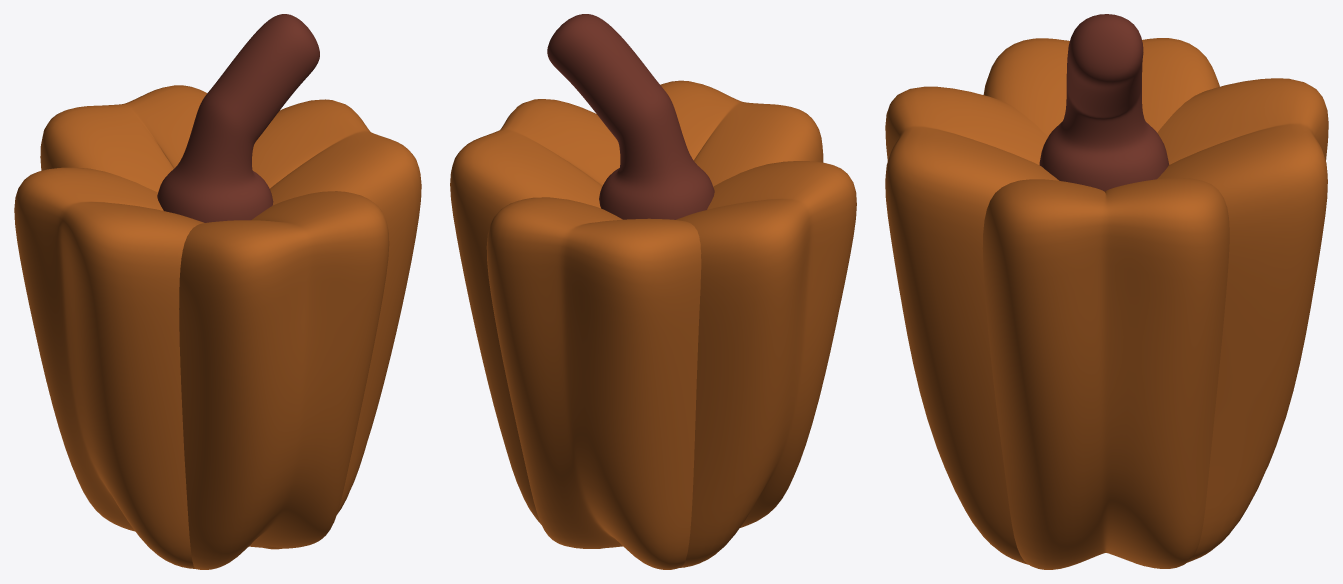
The model's file is Orange_Pepper.fbx.
3 views of the same model, side by side, from view 1: azimuth 30°, elevation 25°; view 2: azimuth 150°, elevation 25°; view 3: azimuth 270°, elevation 25° (orthographic). The views are drawn at different scales.
Visible parts, largest first — view 1: Orange_Pepper; view 2: Orange_Pepper; view 3: Orange_Pepper.
Part boxes in pixels (x1,y1,x2,y2): Orange_Pepper: (14, 14, 421, 569); Orange_Pepper: (450, 14, 856, 569); Orange_Pepper: (885, 14, 1328, 569).
Size of the model in its own units: 3.34 by 4.77 by 3.39.
